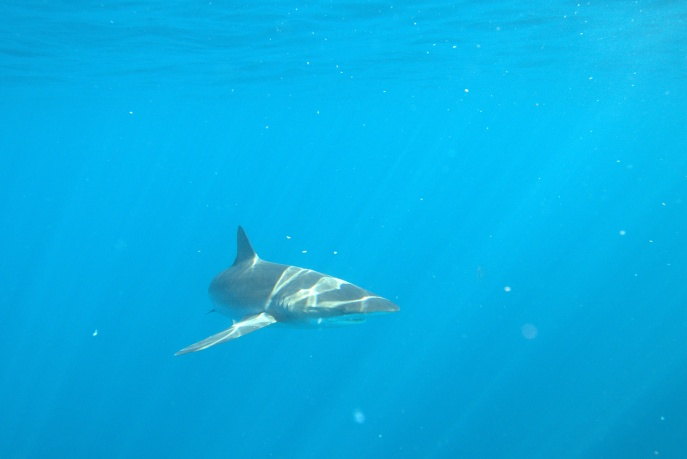Sedoso: (161, 220, 415, 383)
